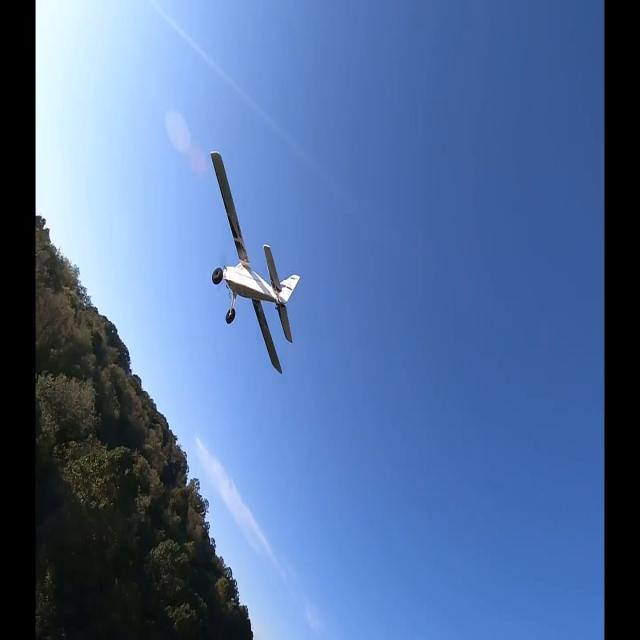iha: (241, 142, 269, 370)
